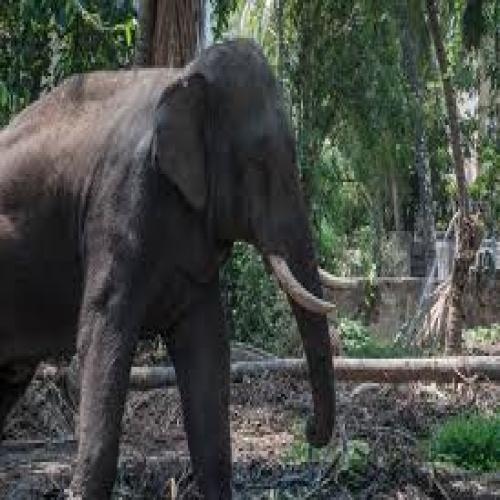asian_elephant-endangered: (0, 38, 352, 500)
